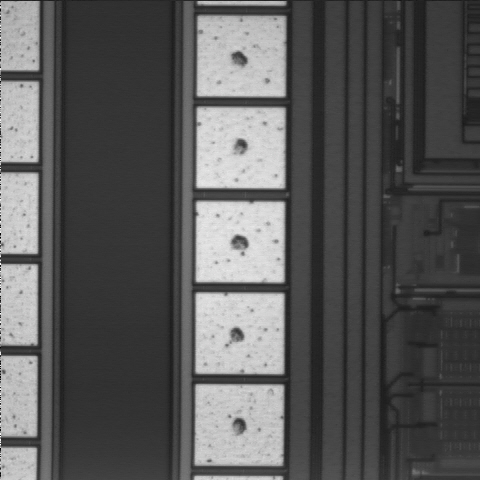pad: (196, 293, 284, 374), (197, 16, 285, 96), (197, 108, 285, 188), (196, 202, 284, 282), (195, 385, 283, 465)
